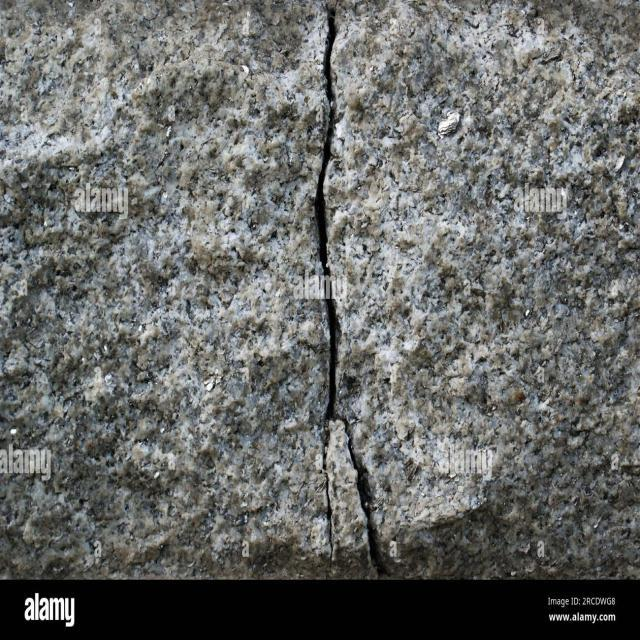Crack: (310, 3, 381, 576)
